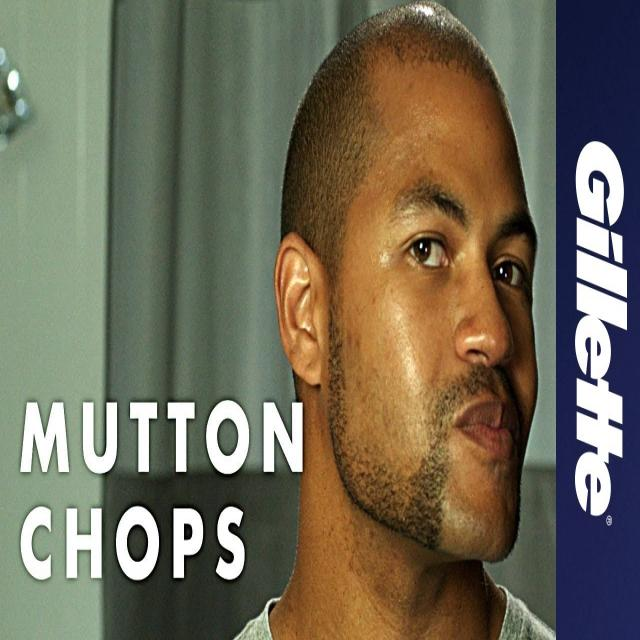beard: (329, 316, 473, 550)
hair: (282, 2, 525, 271)
